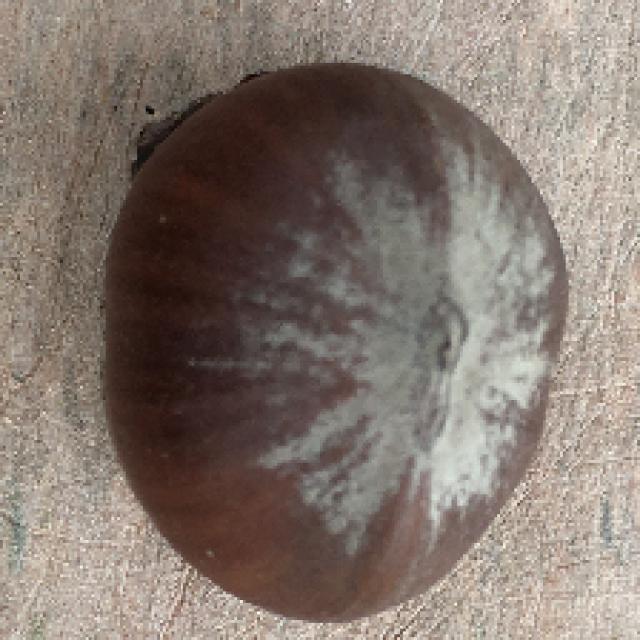damagedHazelnut: (101, 57, 569, 618)
